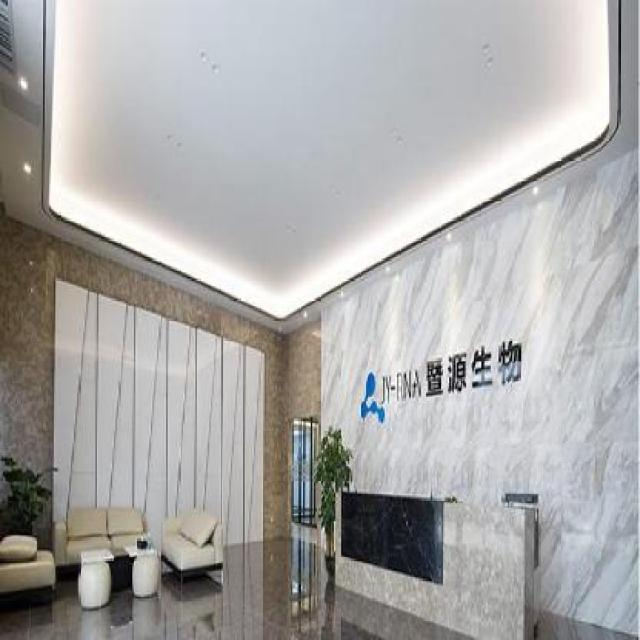frontdesk: (328, 482, 540, 639)
